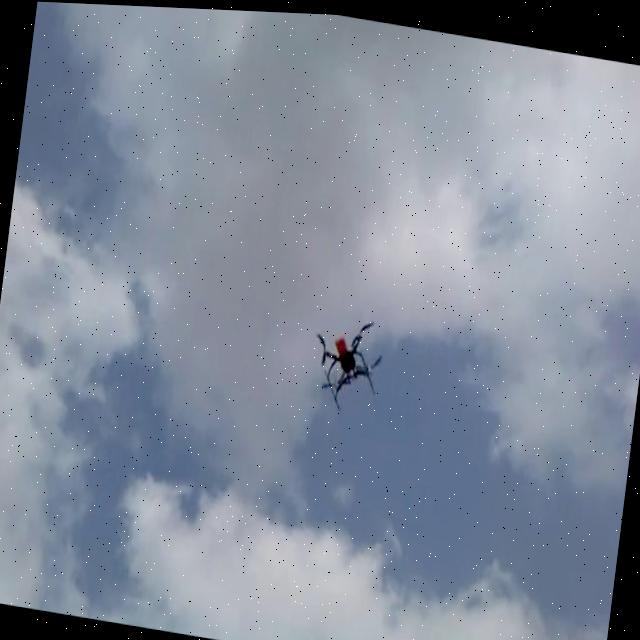drone: (305, 303, 386, 414)
